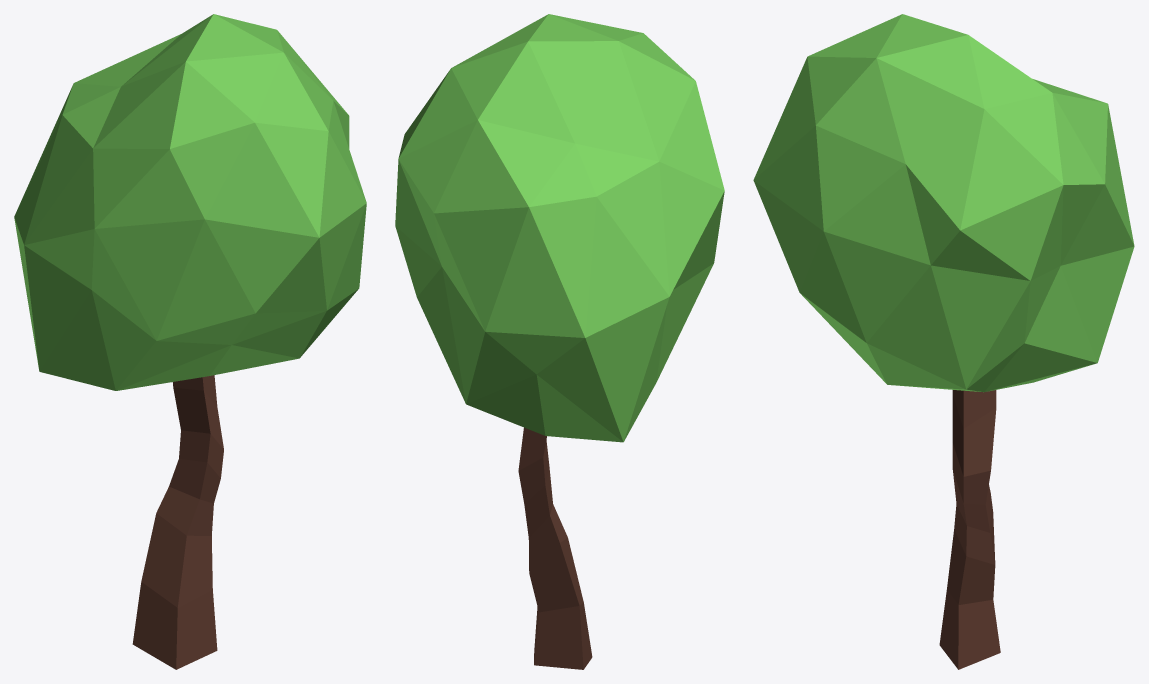
The model's file is Arvore4.fbx.
3 views of the same model, side by side, from view 1: azimuth 30°, elevation 25°; view 2: azimuth 150°, elevation 25°; view 3: azimuth 270°, elevation 25° (orthographic). The views are drawn at different scales.
Parts seen in each view (by area): view 1: Icosphere.002; view 2: Icosphere.002; view 3: Icosphere.002.
Part boxes in pixels (<box>): Icosphere.002: <box>14,14,366,669</box>; Icosphere.002: <box>395,14,724,669</box>; Icosphere.002: <box>753,14,1134,669</box>.
Size of the model in its own units: 228 by 460 by 250.
1 material, 1 textured.
